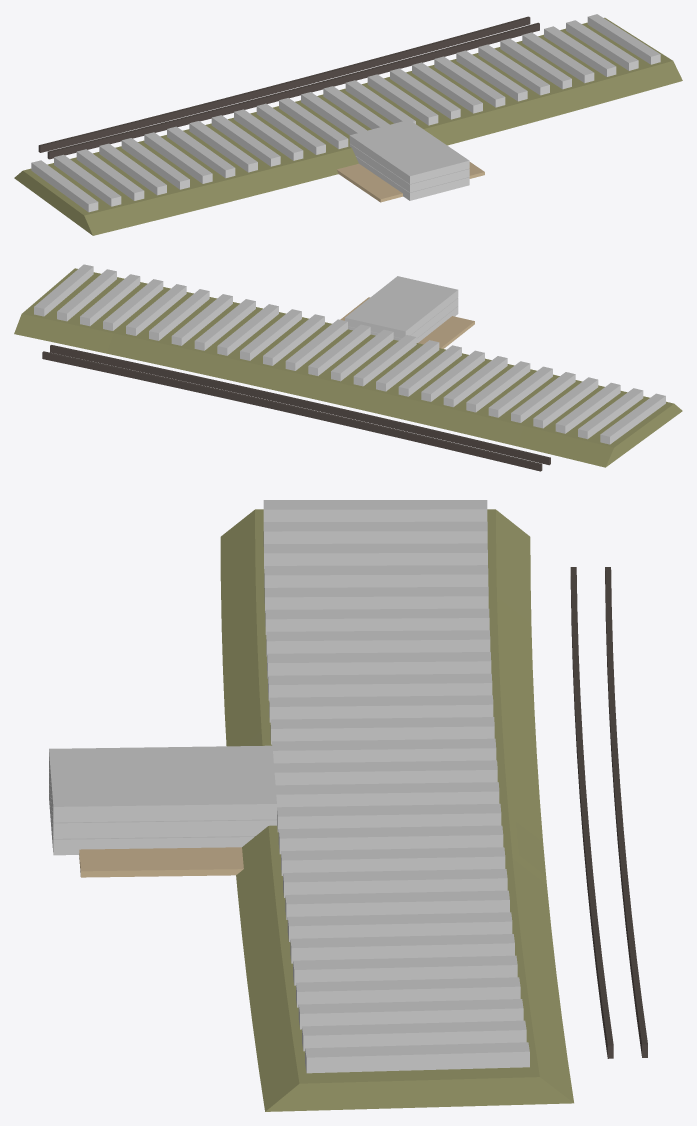
Rendered from SM_Via_CurvaR240_v3_Obra_LOD0.fbx.
3 renders of one model, top to bottom at view 1: azimuth 30°, elevation 25°; view 2: azimuth 150°, elevation 25°; view 3: azimuth 270°, elevation 25°, orthographic. The views are drawn at different scales.
Visible parts, largest first — view 1: SM_via_trazado_v23_LOD0; view 2: SM_via_trazado_v23_LOD0; view 3: SM_via_trazado_v23_LOD0.
Boxes of the visible parts, x1,y1,x2,y2 form: SM_via_trazado_v23_LOD0: (14,14,682,235); SM_via_trazado_v23_LOD0: (14,264,682,471); SM_via_trazado_v23_LOD0: (49,500,647,1111).
Size of the model in its own units: 15.81 by 0.63 by 6.96.
